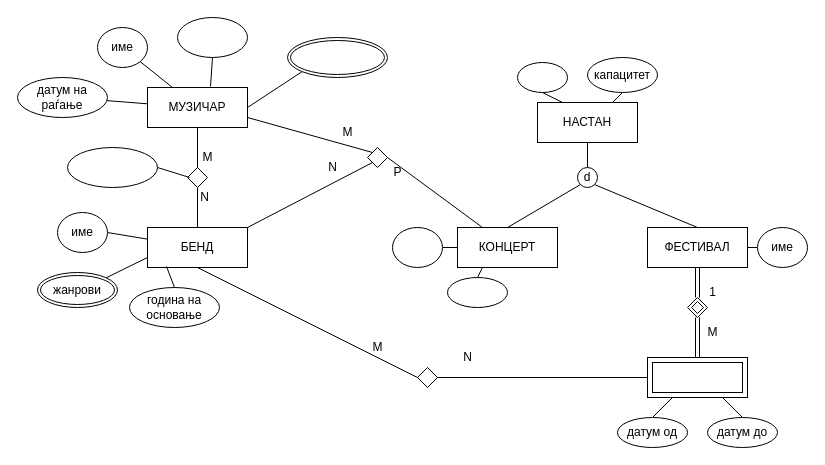
The diagram is 825 pixels wide and 465 high, and some of its shapes have lost their labels. Each missing label, with the centre of its shape:
"време" goes at [477,292].
"датум" goes at [417,247].
"датум на напуштање" goes at [112,167].
"инструменти" goes at [337,57].
"презиме" goes at [212,37].
"ФЕСТИВАЛ-ОДРЖУВАЊЕ" goes at [697,377].
"цена" goes at [542,77].
